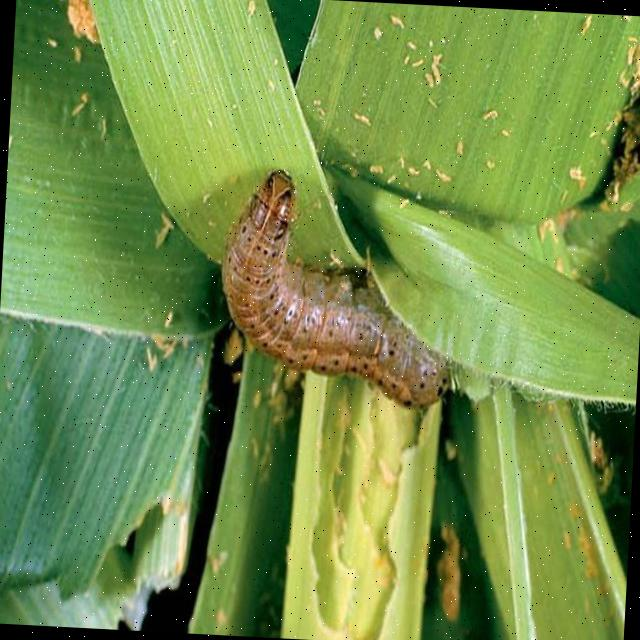worm: (215, 168, 465, 416)
